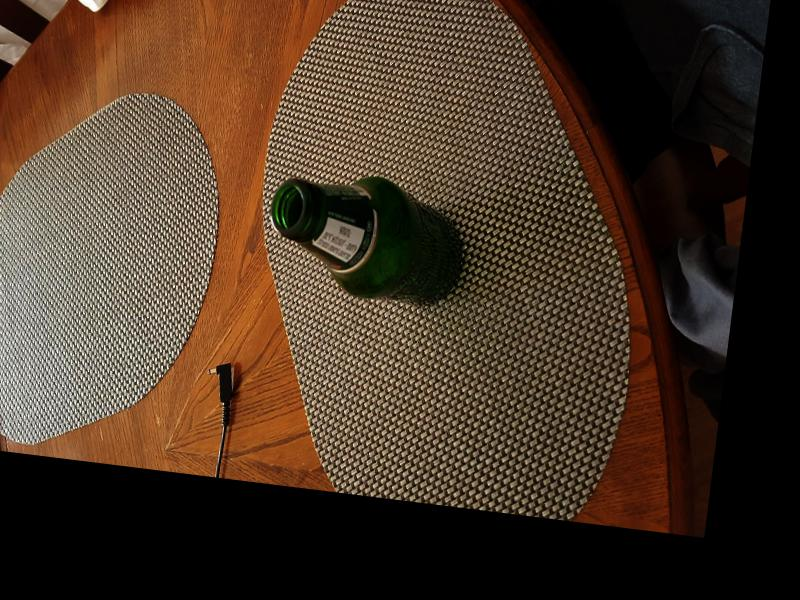Beer: (264, 163, 472, 308)
